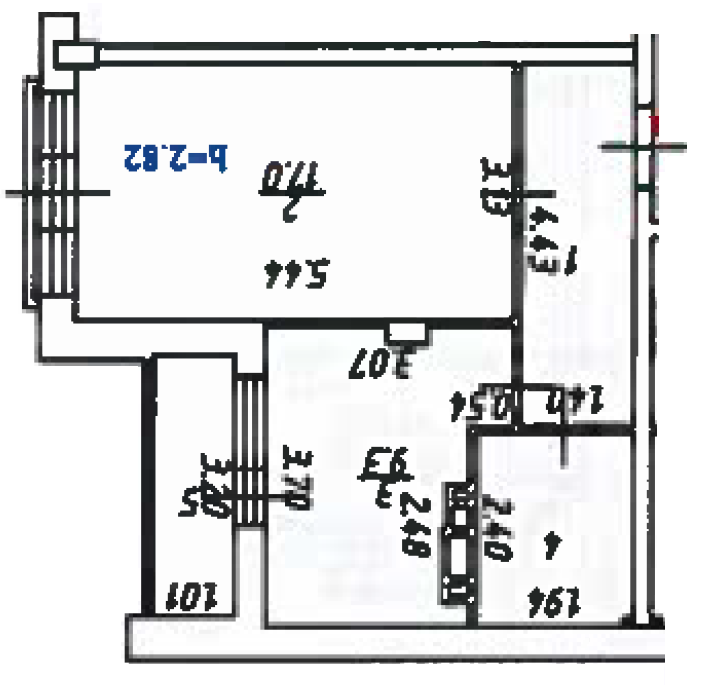balcony_door: (4, 155, 113, 229), (201, 464, 306, 528)
balcony_wall: (23, 76, 42, 310), (141, 354, 158, 615)
door: (596, 104, 694, 187), (547, 379, 581, 470), (472, 374, 563, 397), (480, 182, 559, 205)
vent_channel: (439, 527, 478, 575), (442, 483, 475, 526)
water_pipes: (439, 576, 478, 603)
window: (231, 375, 271, 467), (41, 228, 79, 299), (42, 90, 77, 159)
